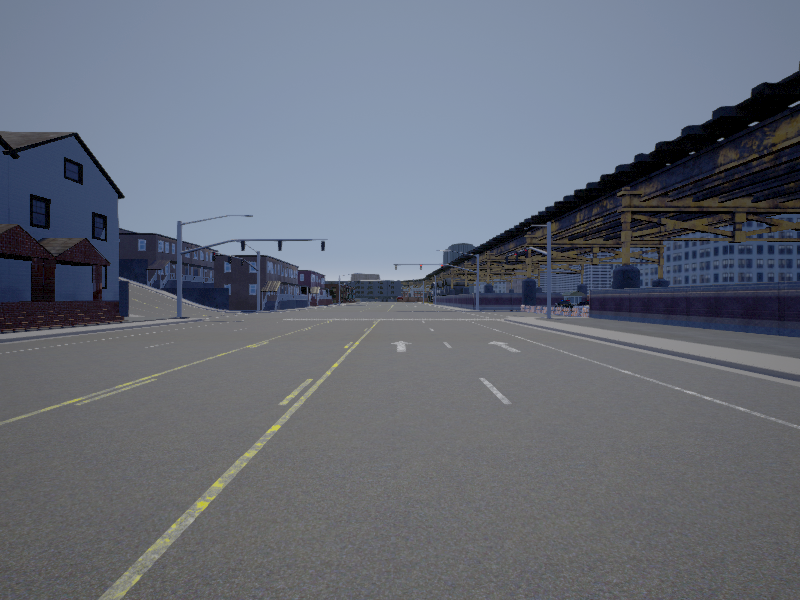Attacker: (395, 294, 407, 303)
